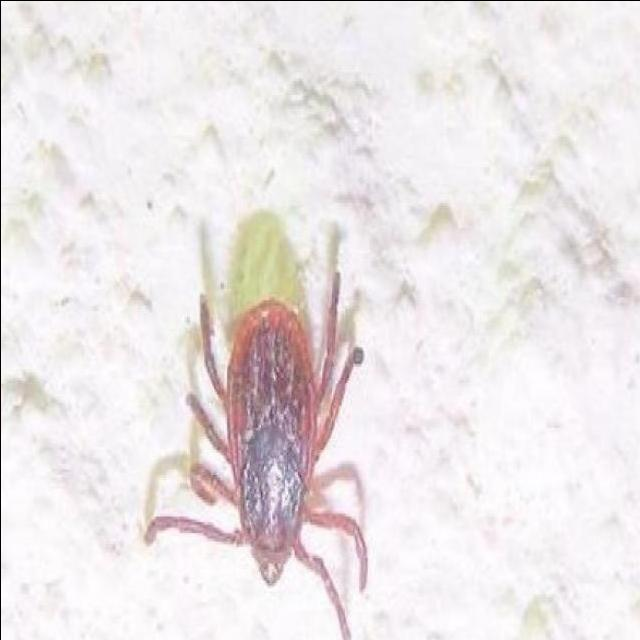Rhipicephalus Sanguineus-F: (142, 271, 368, 640)
